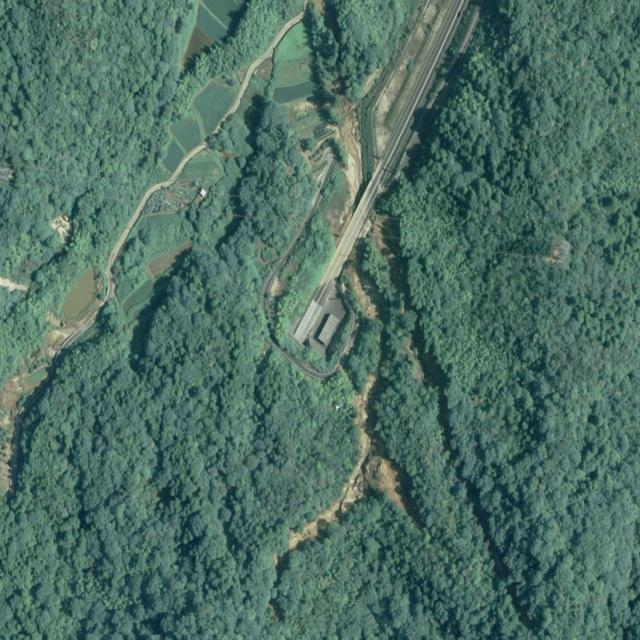landslide: (289, 374, 406, 551), (340, 99, 363, 225), (349, 270, 378, 319)
